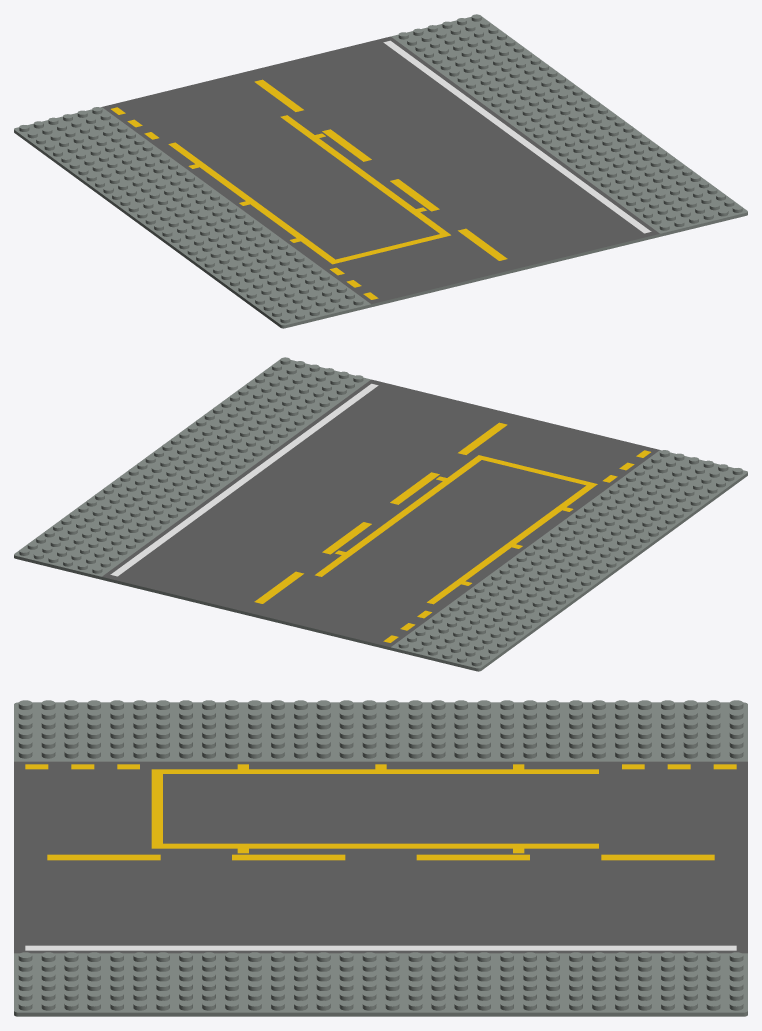
Rendered from RoadBrick.dae.
3 views of the same model, one above another, from view 1: azimuth 30°, elevation 25°; view 2: azimuth 150°, elevation 25°; view 3: azimuth 270°, elevation 25° (orthographic). The views are drawn at different scales.
Bounding box in the file's own units: 640 × 640 × 8.
